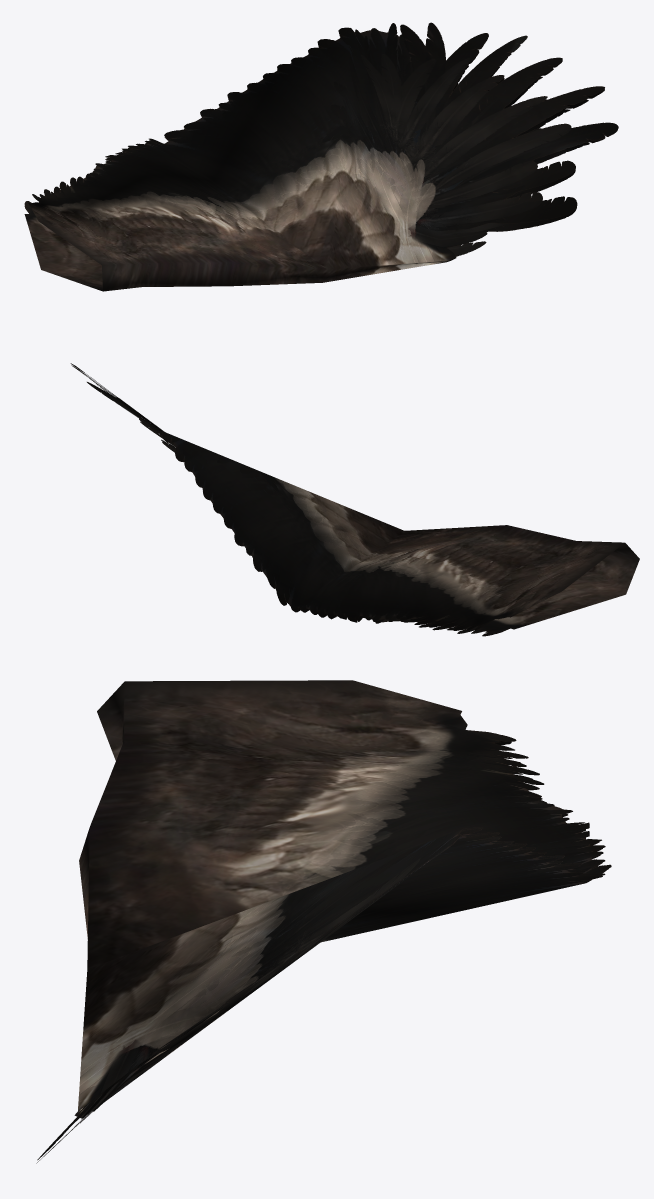
File: vulture_left_wing.obj
The picture shows the model from 3 angles, top to bottom: view 1: azimuth 30°, elevation 25°; view 2: azimuth 150°, elevation 25°; view 3: azimuth 270°, elevation 25°; orthographic projection. The views are drawn at different scales.
Visible parts, largest first — view 1: leftWing; view 2: leftWing; view 3: leftWing.
Boxes of the visible parts, x1,y1,x2,y2 form: leftWing: (24, 22, 618, 291); leftWing: (70, 363, 639, 636); leftWing: (36, 680, 611, 1163).
Bounding box in the file's own units: 0.4108 × 0.1112 × 0.204.
1 material, 1 textured.
